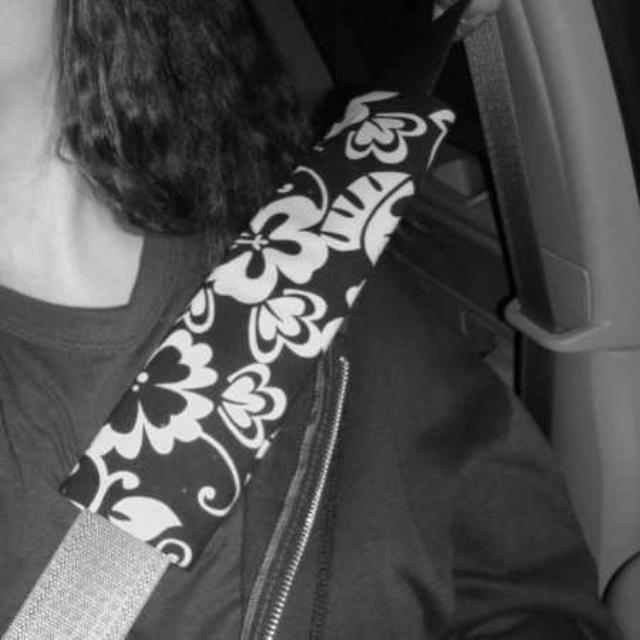Seatbelt: (1, 1, 480, 640)
